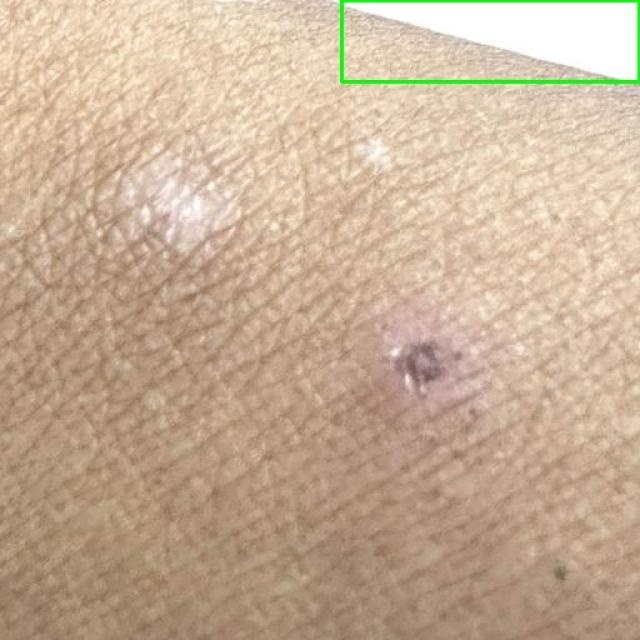Scabies: (341, 0, 639, 81)
